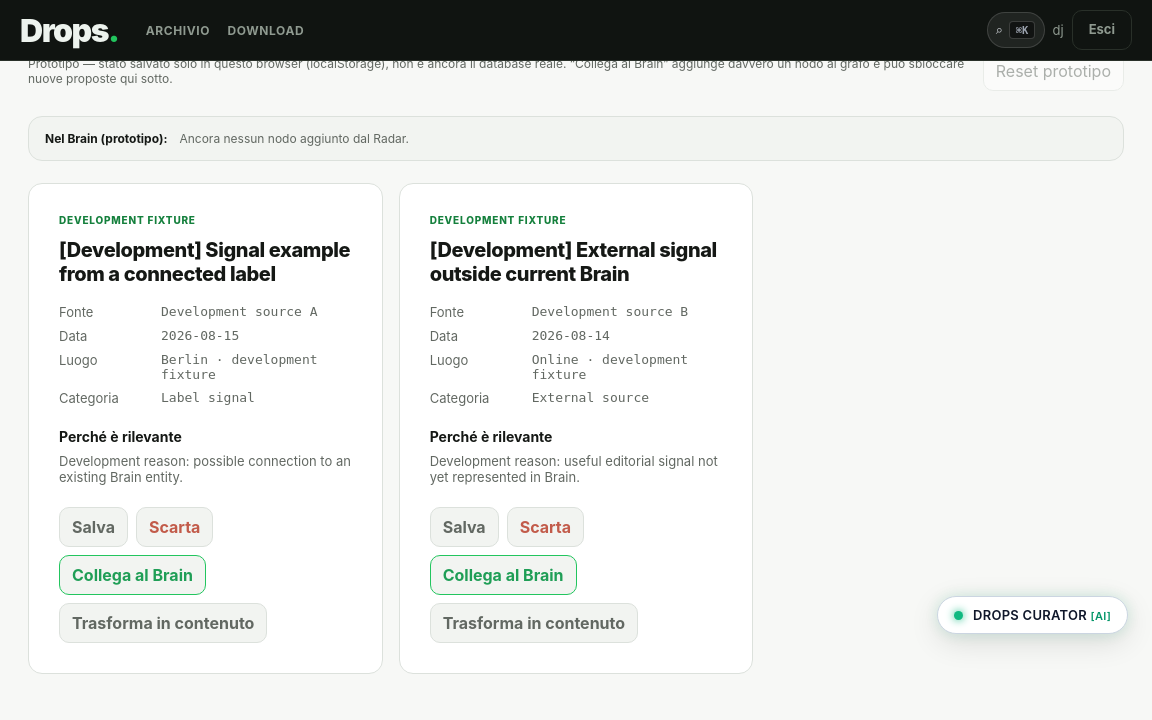
autenticazione App › mostra Radar con fixture development, azioni attive e prototipo in localStorage
(page scrolled)
Check: the text "Development fixture" is shown 2 times, box [59, 214, 196, 226]; [430, 214, 566, 226]
Check: the text "possono emergere anche fuori" is shown, box [28, 0, 760, 19]
Click the button "Collega al Brain" below "Label signal": click(132, 575) [59, 555, 206, 595]
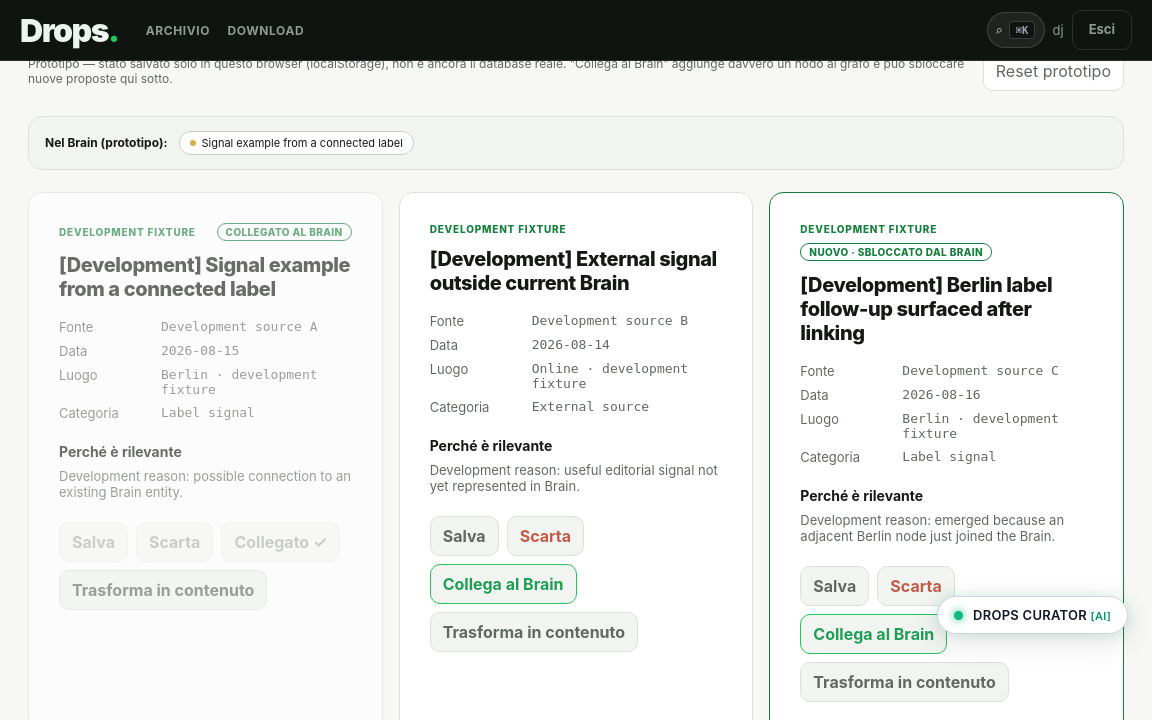
Check: the button "Collegato ✓" is disabled, box [221, 522, 340, 562]
Check: the heading "Berlin label follow-up surfaced after linking" is shown, box [800, 273, 1052, 345]
Check: the button "Reset prototipo" is enabled
Click the button "Reset prototipo": click(1053, 71) [983, 51, 1124, 91]
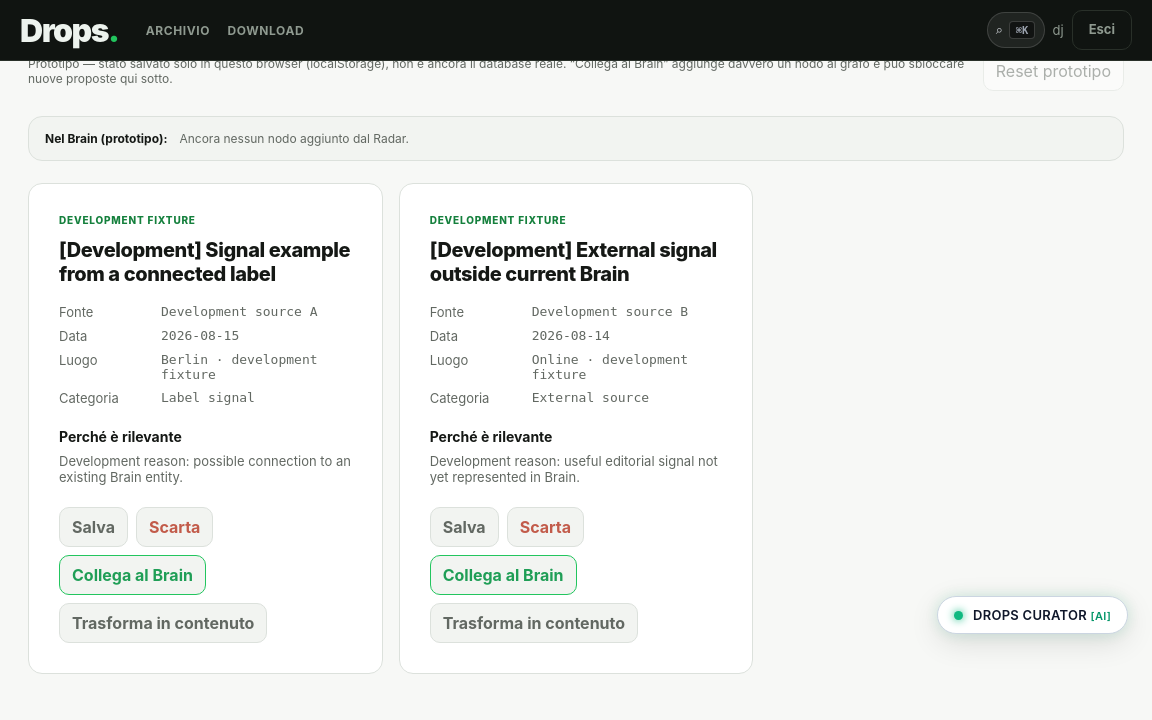
Check: the heading "Berlin label follow-up surfaced after linking" is gone
